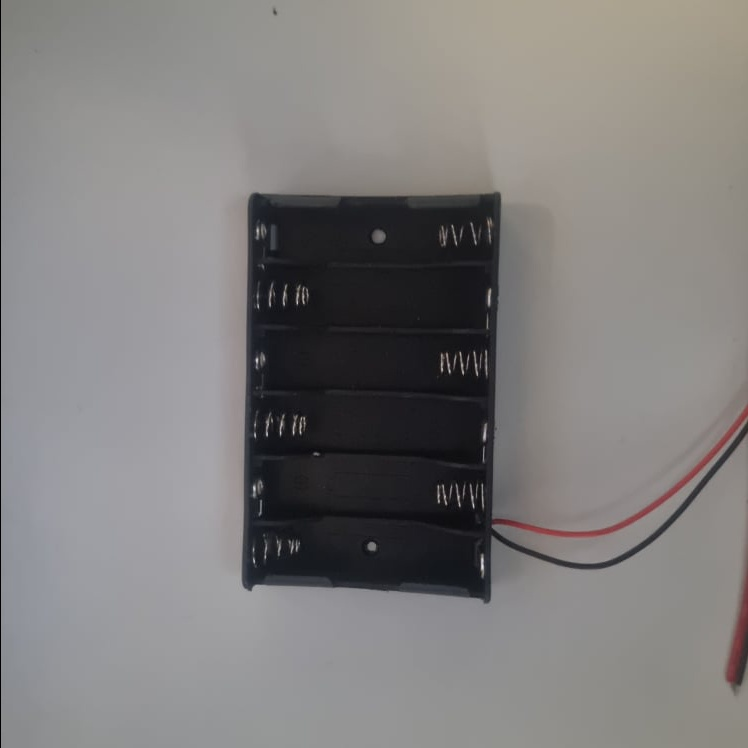BATTERY BOX: (240, 189, 498, 604)
